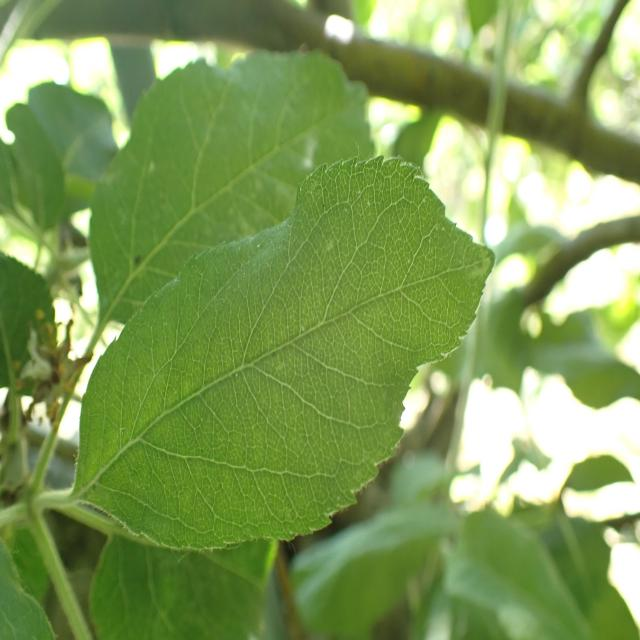healthy: (75, 154, 496, 550), (88, 48, 374, 328), (90, 530, 278, 640), (0, 252, 56, 390)
